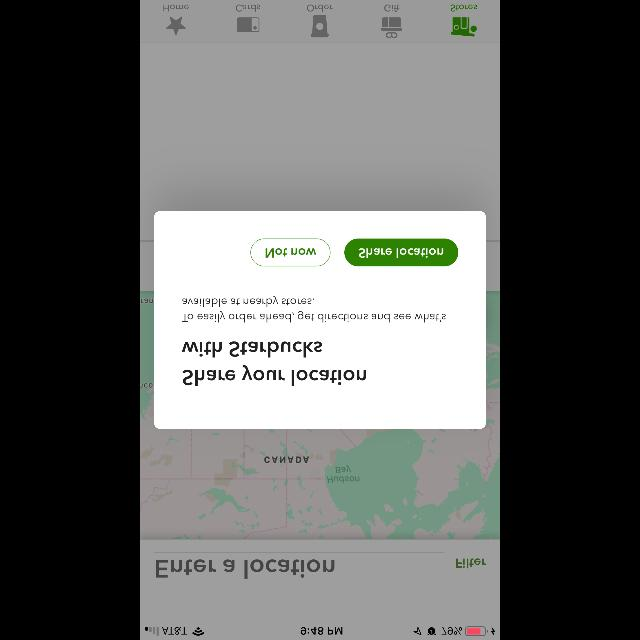panel: (154, 211, 486, 429)
text: (182, 340, 366, 386), (182, 295, 446, 323)
textbutton: (344, 238, 458, 266), (250, 238, 330, 266)
uppertaskbar: (140, 626, 500, 640)
